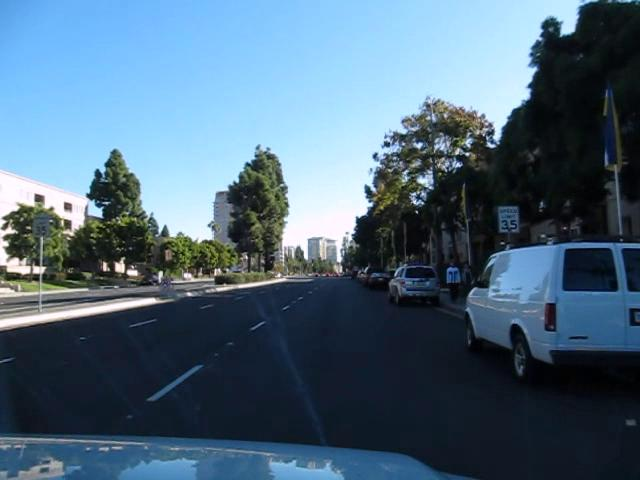speedLimit35: (497, 205, 519, 233)
